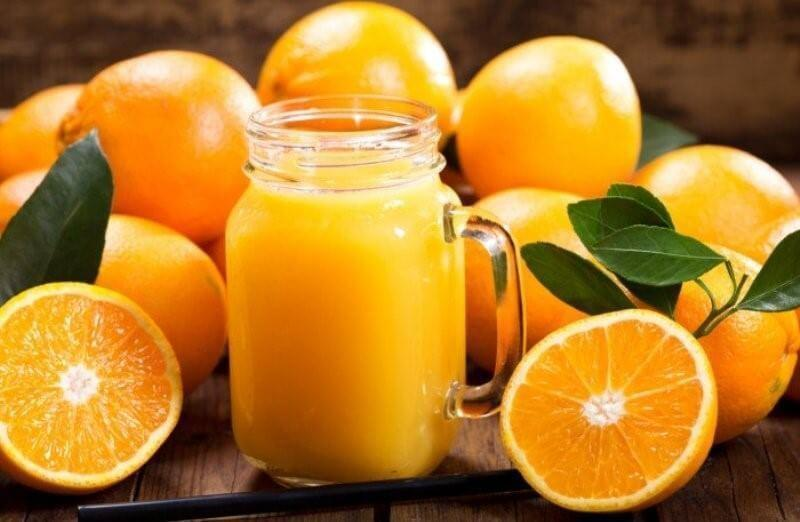glass-mug: (223, 92, 525, 492)
